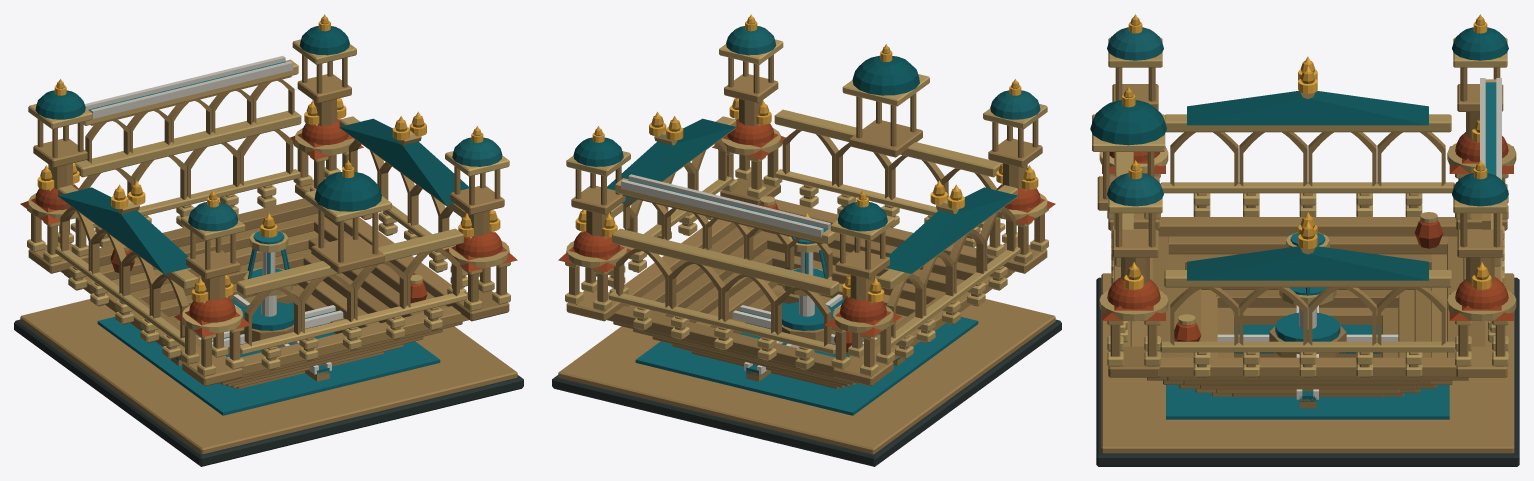
3 views of the same model, side by side, from view 1: azimuth 30°, elevation 25°; view 2: azimuth 150°, elevation 25°; view 3: azimuth 270°, elevation 25° (orthographic). The views are drawn at different scales.
Visible parts, largest first — view 1: stepwell_level13_structure, stepwell_level13_metal; view 2: stepwell_level13_structure, stepwell_level13_metal; view 3: stepwell_level13_structure, stepwell_level13_metal.
Boxes of the visible parts, x1,y1,x2,y2 form: stepwell_level13_structure: (14, 17, 523, 466); stepwell_level13_metal: (37, 14, 500, 302); stepwell_level13_structure: (552, 17, 1061, 466); stepwell_level13_metal: (575, 14, 1038, 302); stepwell_level13_structure: (1090, 17, 1519, 466); stepwell_level13_metal: (1122, 14, 1491, 289).
Size of the model in its own units: 5.6 by 4.26 by 5.68.
